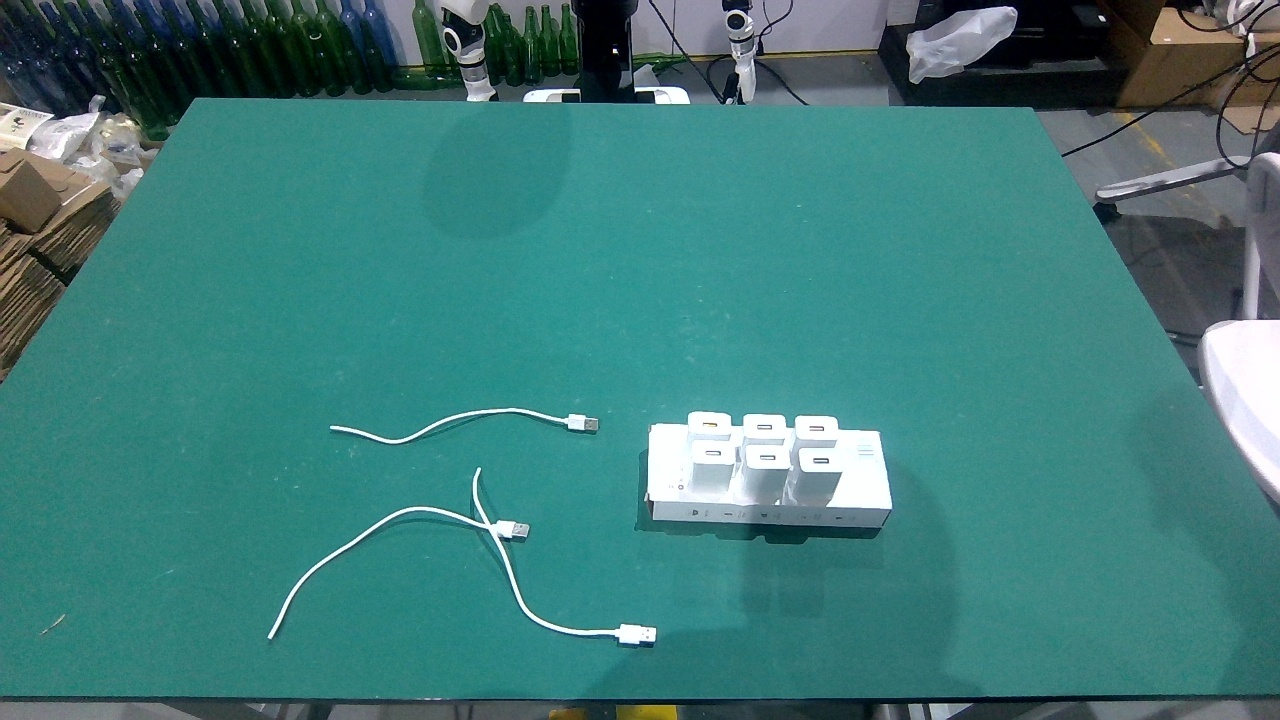usb_a_port: (806, 424, 826, 434), (757, 453, 778, 462), (811, 456, 831, 465), (701, 420, 719, 429), (703, 449, 723, 457), (755, 423, 774, 431)
